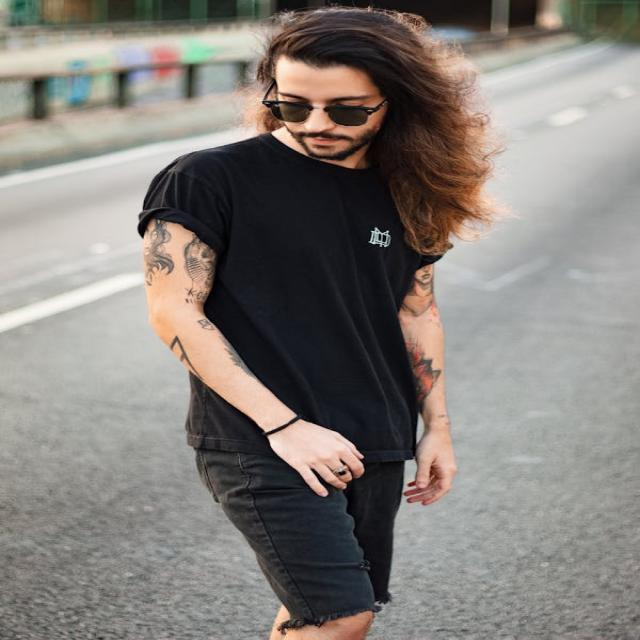Real human 2: (122, 1, 529, 640)
